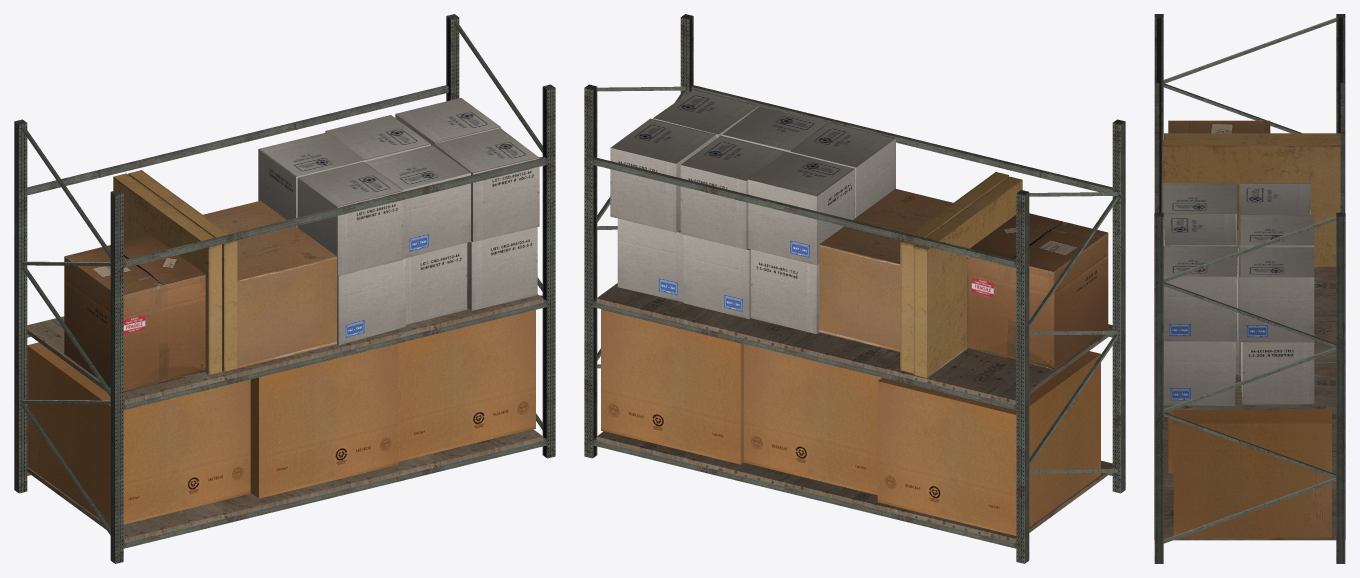
File: shelving.fbx
The picture shows the model from 3 angles, left to right: view 1: azimuth 30°, elevation 25°; view 2: azimuth 150°, elevation 25°; view 3: azimuth 270°, elevation 25°; orthographic projection. The views are drawn at different scales.
Parts seen in each view (by area): view 1: shelving.001; view 2: shelving.001; view 3: shelving.001.
Boxes of the visible parts, x1,y1,x2,y2 form: shelving.001: [14, 14, 555, 563]; shelving.001: [584, 14, 1125, 563]; shelving.001: [1154, 14, 1345, 563].
Size of the model in its own units: 4.08 by 3.26 by 1.63.
1 material, 1 textured.
